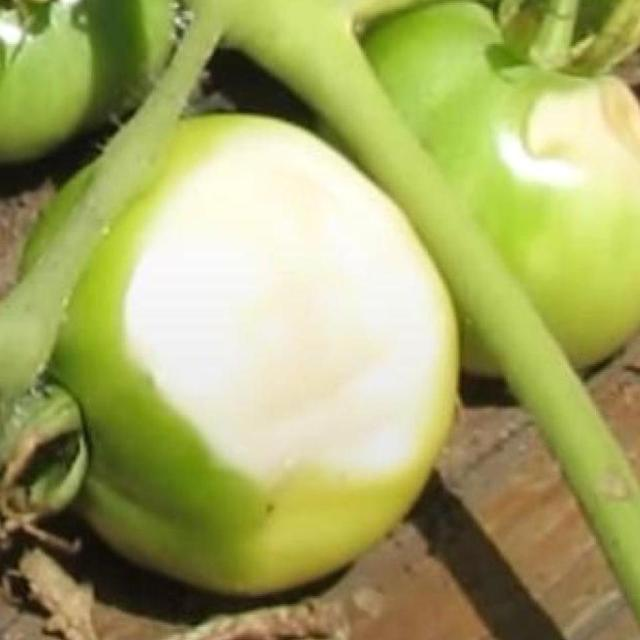Sunscald Fruit: (94, 97, 380, 272)
